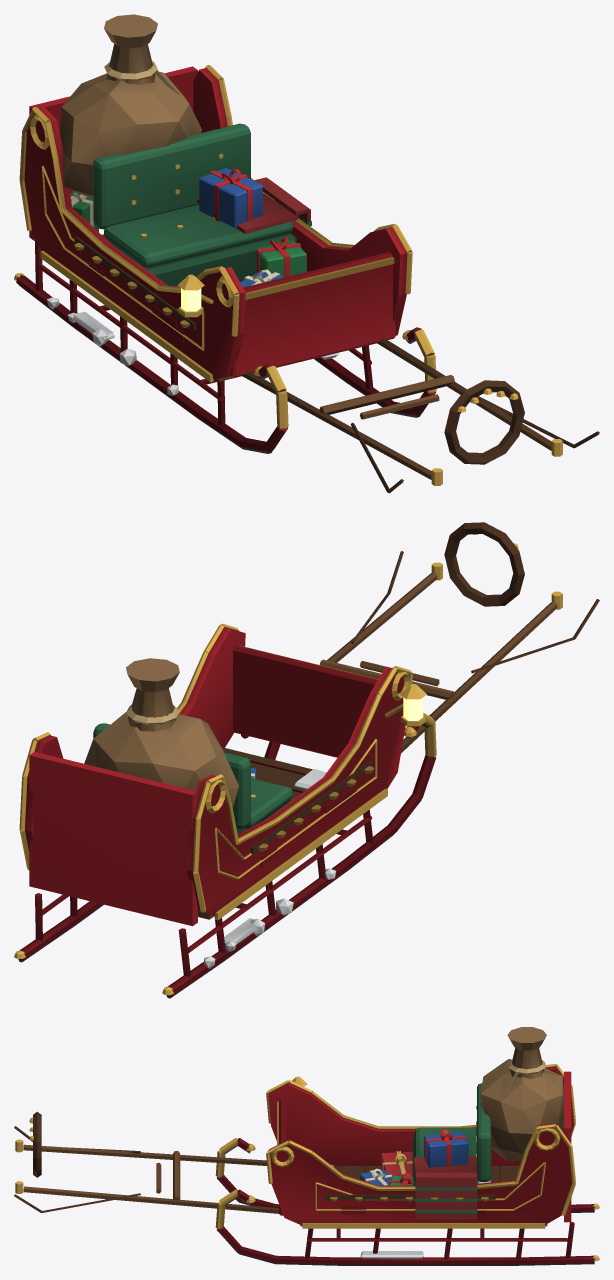
The model's file is sleigh.glb.
3 views of the same model, one above another, from view 1: azimuth 30°, elevation 25°; view 2: azimuth 150°, elevation 25°; view 3: azimuth 270°, elevation 25° (orthographic). The views are drawn at different scales.
Visible parts, largest first — view 1: sleigh; view 2: sleigh; view 3: sleigh.
Part boxes in pixels (x1,y1,x2,y2): sleigh: [14, 14, 599, 493]; sleigh: [14, 522, 599, 998]; sleigh: [14, 1027, 599, 1265].
Bounding box in the file's own units: 2.03 × 2.46 × 6.52.
